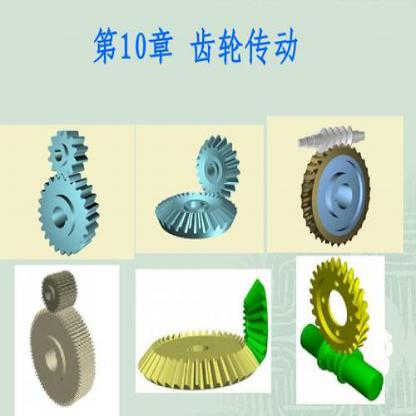FOD: (299, 144, 374, 252), (135, 330, 255, 390), (29, 305, 97, 409), (309, 256, 372, 357), (37, 171, 100, 262), (151, 190, 243, 242), (195, 133, 241, 199), (242, 273, 272, 364), (46, 128, 90, 182), (39, 266, 78, 316)
